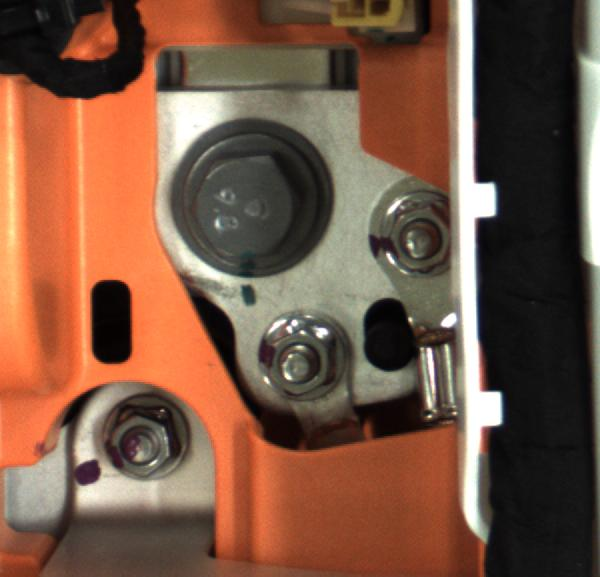screw_s: (95, 399, 209, 487), (251, 320, 342, 402), (379, 194, 458, 283)
